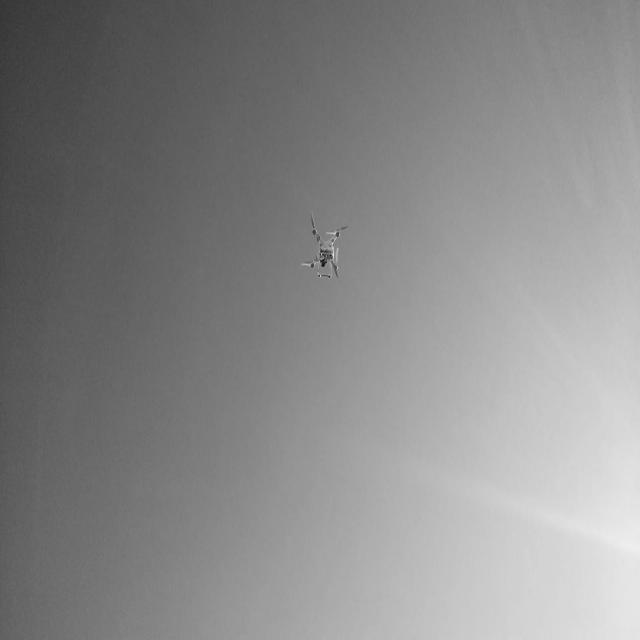drone: (299, 215, 352, 285)
